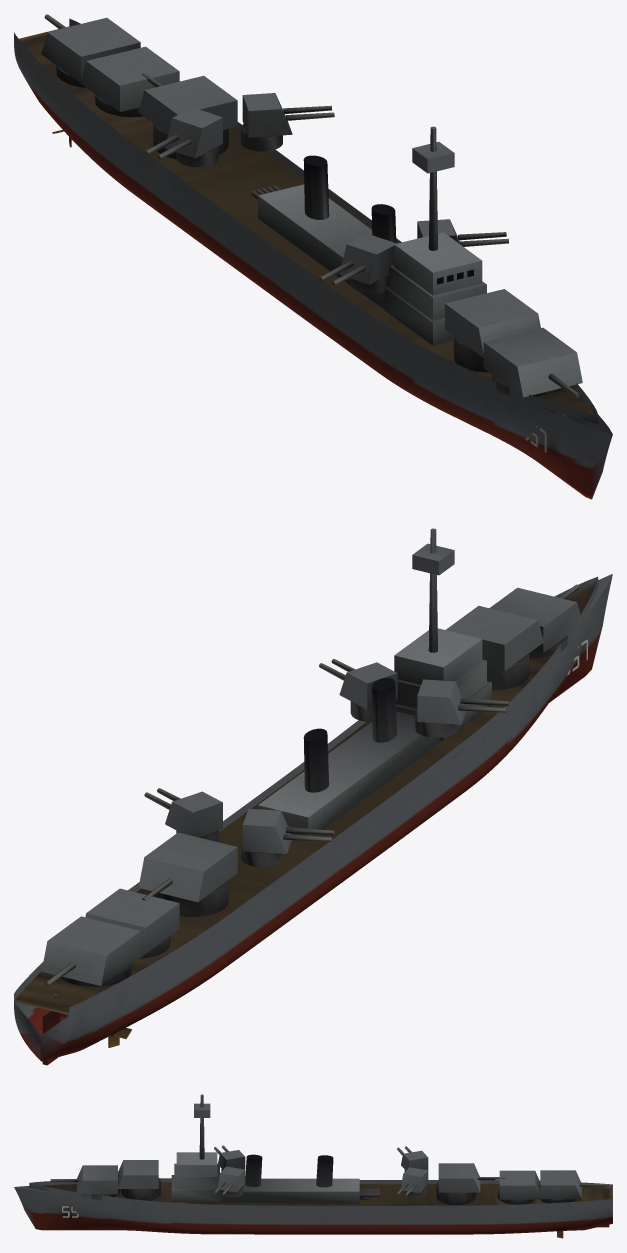
Rendered from model_built.glb.
3 views of the same model, one above another, from view 1: azimuth 30°, elevation 25°; view 2: azimuth 150°, elevation 25°; view 3: azimuth 270°, elevation 25° (orthographic). The views are drawn at different scales.
Visible parts, largest first — view 1: main; view 2: main; view 3: main.
Part boxes in pixels (box(x1,y1,x2,y2)): main: box(14, 14, 612, 499); main: box(14, 528, 612, 1065); main: box(14, 1094, 612, 1238).
Size of the model in its own units: 22.27 by 29.77 by 118.
Materials: 1 (1 with a texture image).
